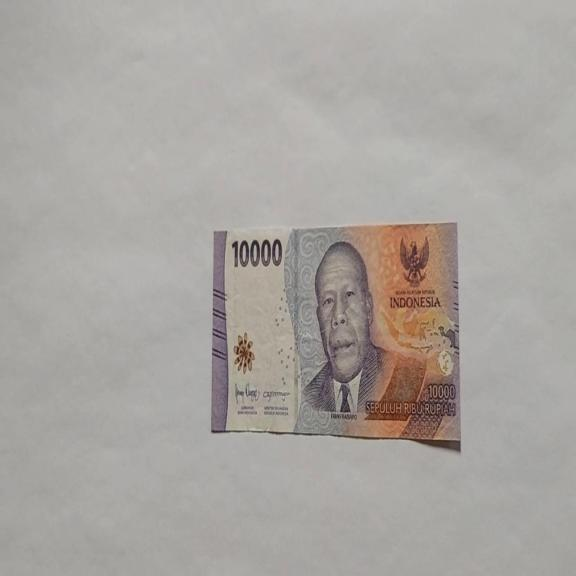Kertas: (211, 221, 460, 446), (230, 236, 283, 269)
